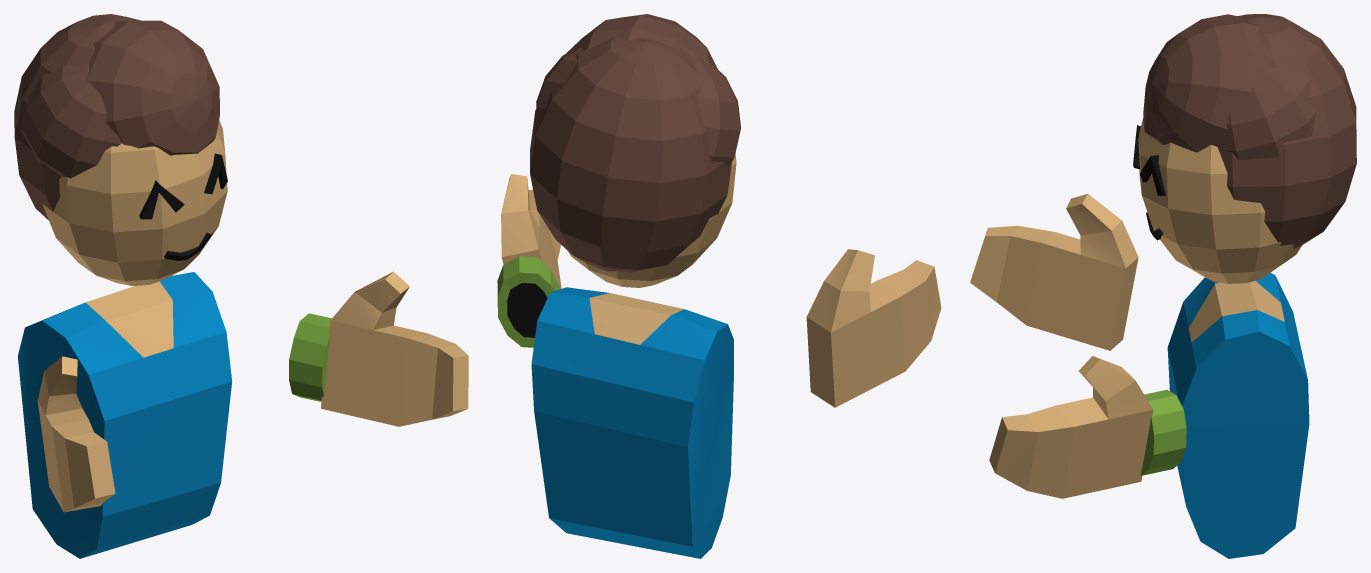
File: Avatar.gltf
The picture shows the model from 3 angles, left to right: view 1: azimuth 30°, elevation 25°; view 2: azimuth 150°, elevation 25°; view 3: azimuth 270°, elevation 25°; orthographic projection.
Visible parts, largest first — view 1: node_MeshObject81400832-PolyPaper21; view 2: node_MeshObject81400832-PolyPaper21; view 3: node_MeshObject81400832-PolyPaper21.
Boxes of the visible parts, box(x1,y1,x2,y2) form: node_MeshObject81400832-PolyPaper21: box(14, 14, 468, 558); node_MeshObject81400832-PolyPaper21: box(497, 14, 941, 558); node_MeshObject81400832-PolyPaper21: box(970, 14, 1356, 558).
Size of the model in its own units: 0.3804 by 0.4633 by 0.3193.
